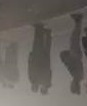person: (60, 13, 83, 96), (28, 24, 42, 92), (40, 28, 53, 95), (8, 41, 21, 89)
